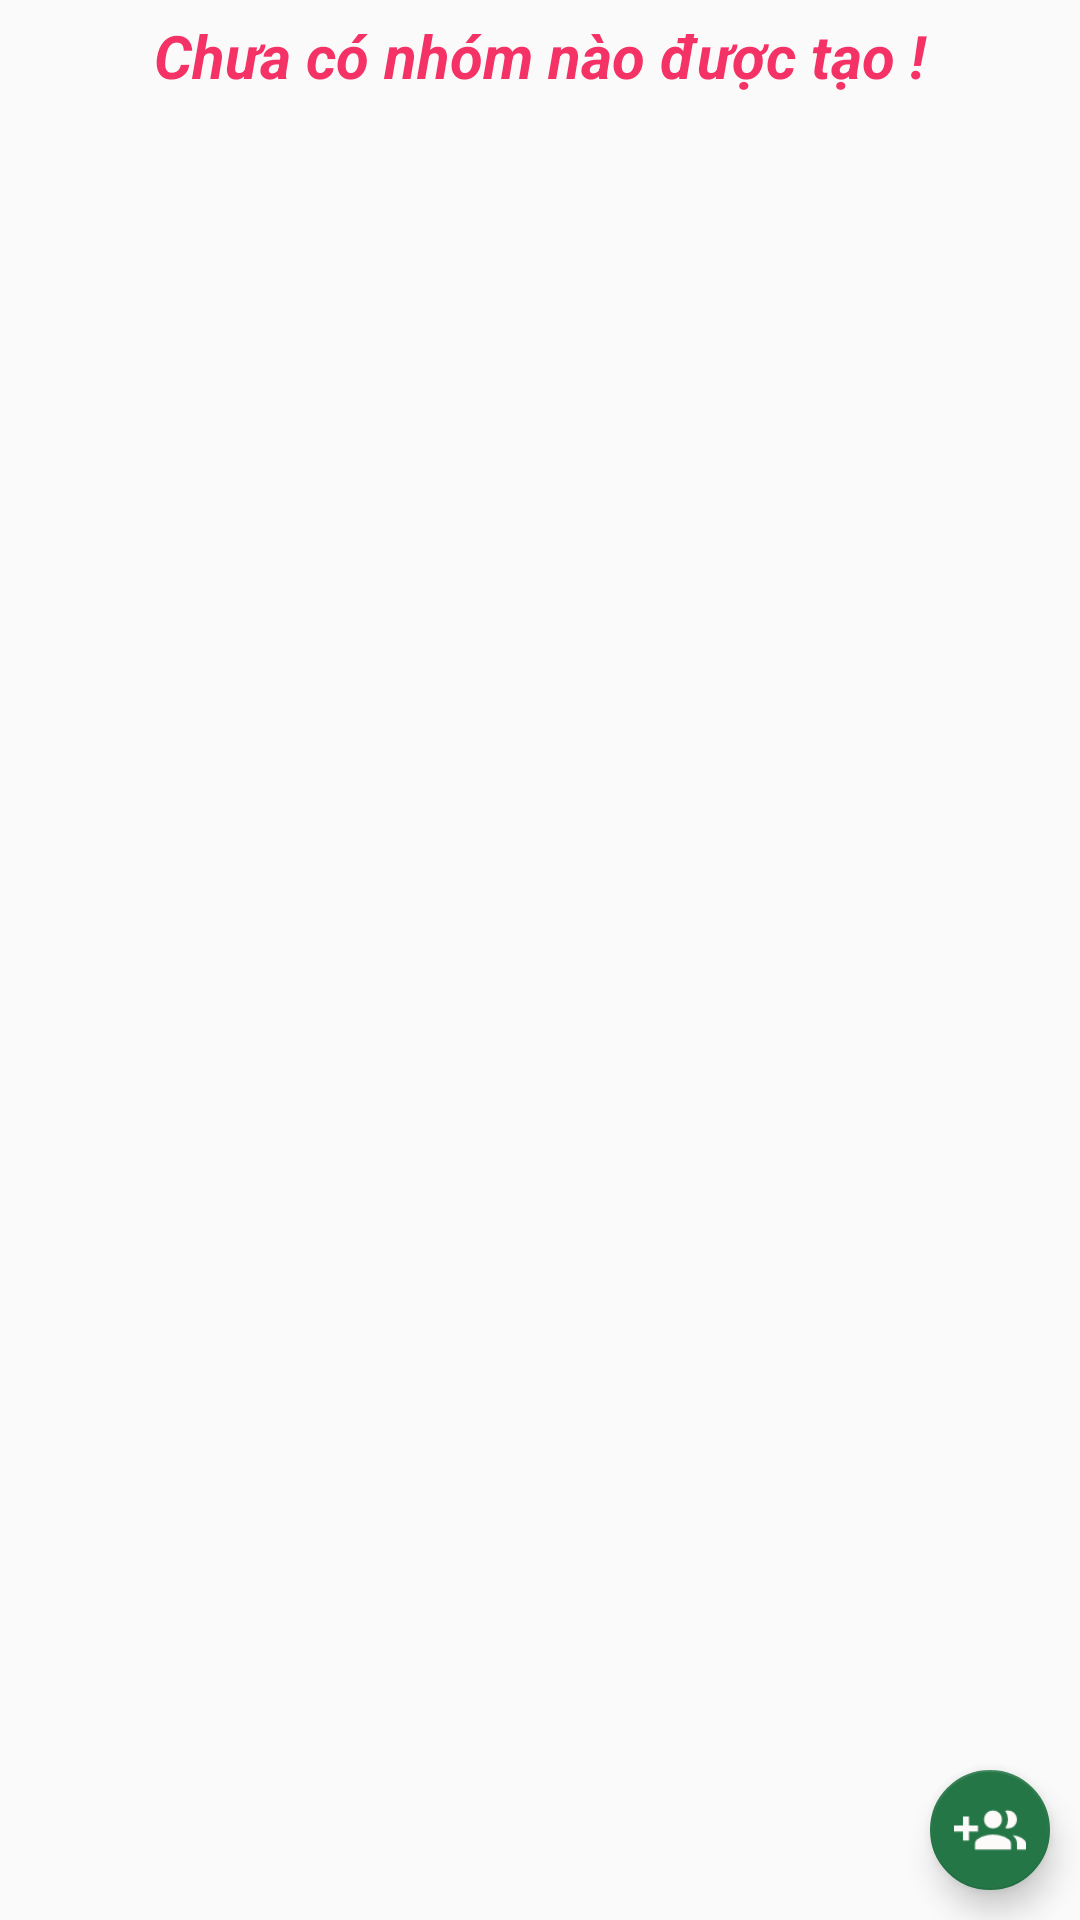

Icon bounding boxes for this 1080x1920 phone screenshot, format detection(x1, y1, x2, y2):
creategroup: detection(930, 1770, 1050, 1890)
